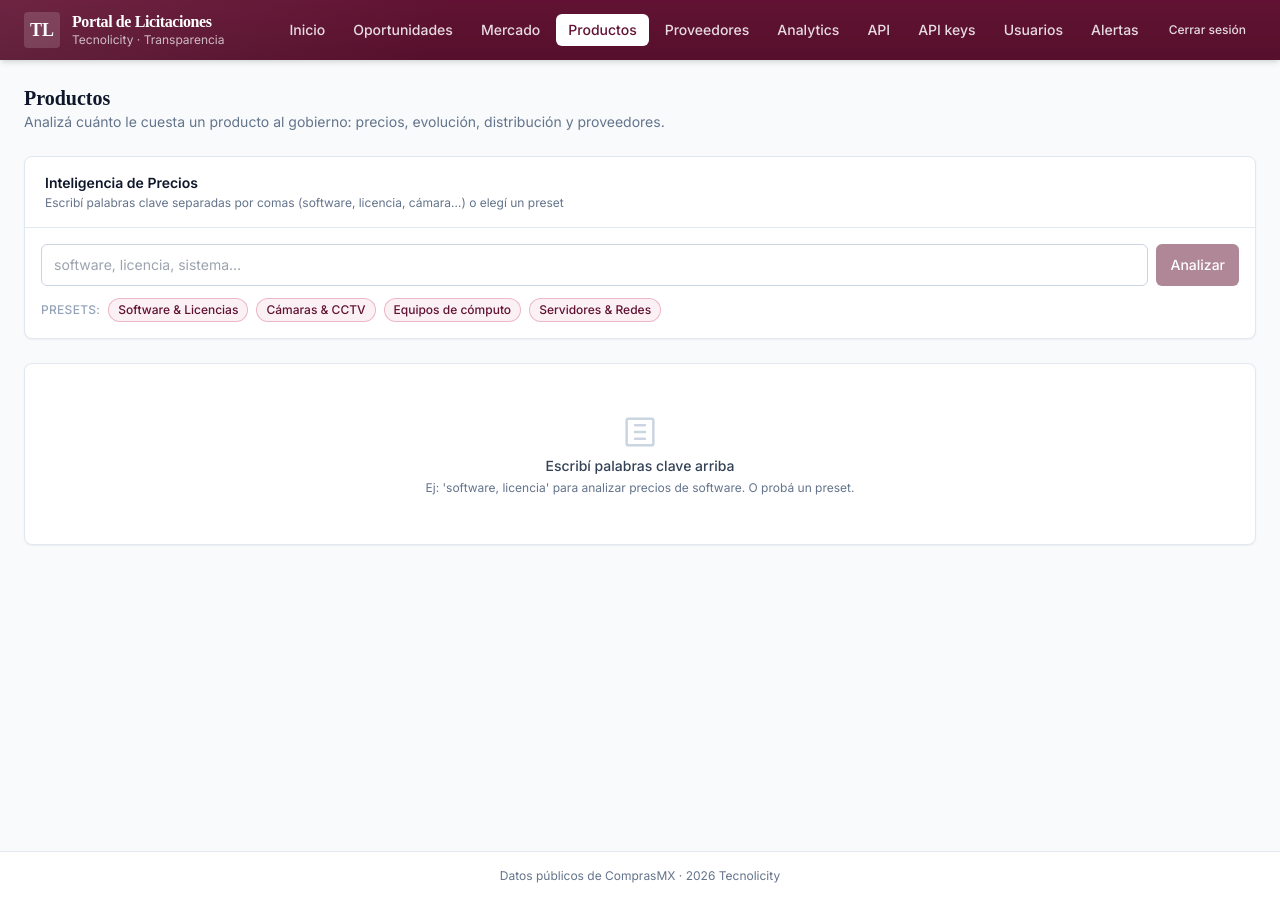
ProductsPage › renders the full dashboard after clicking Analizar
Type "software, licencia" into the field with placeholder "software, licencia, sistema…". click: (595, 265)
box: left=41, top=244, right=1148, bottom=286
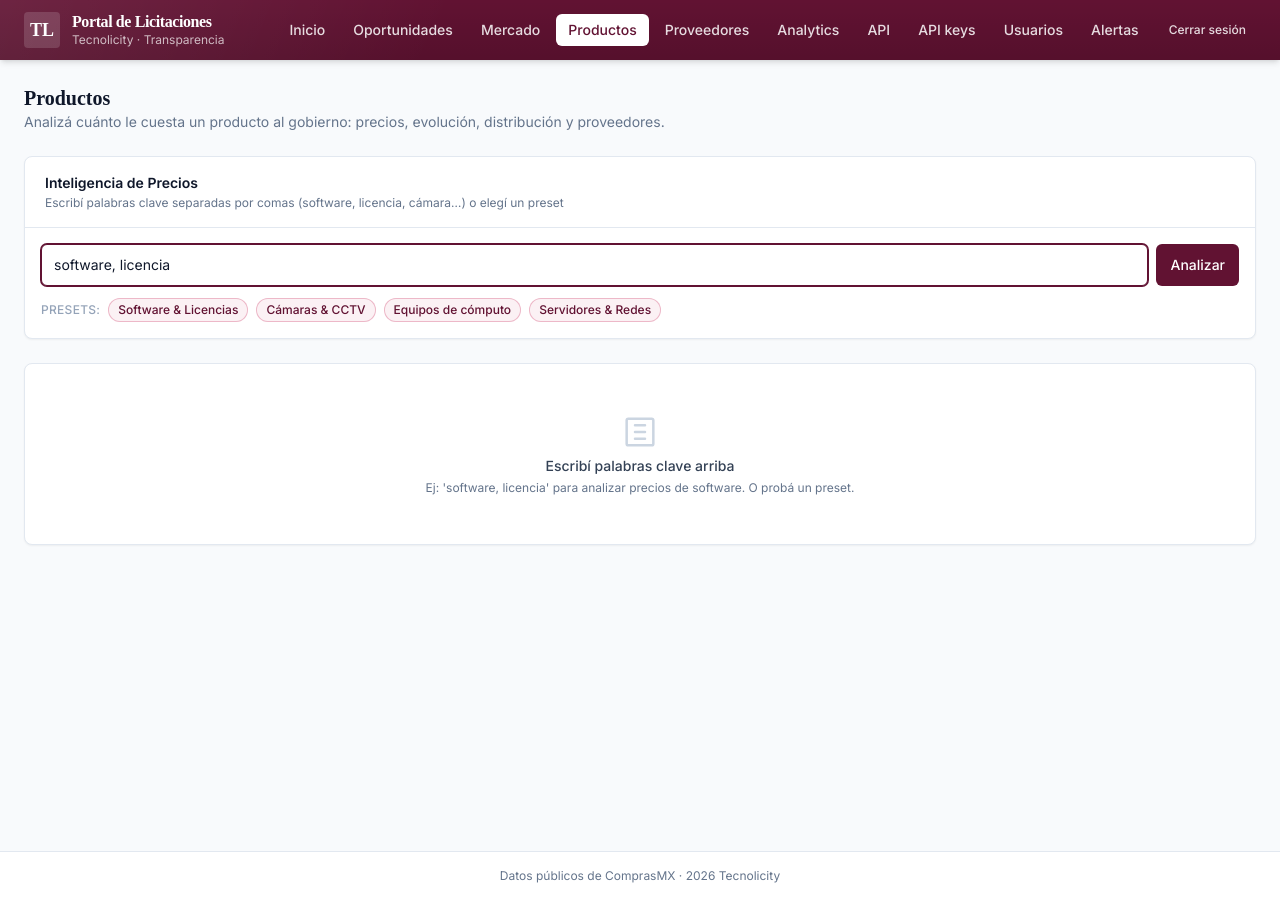
Click the button "Analizar". click: (1198, 265)
box: left=1156, top=244, right=1239, bottom=286
(page scrolled)
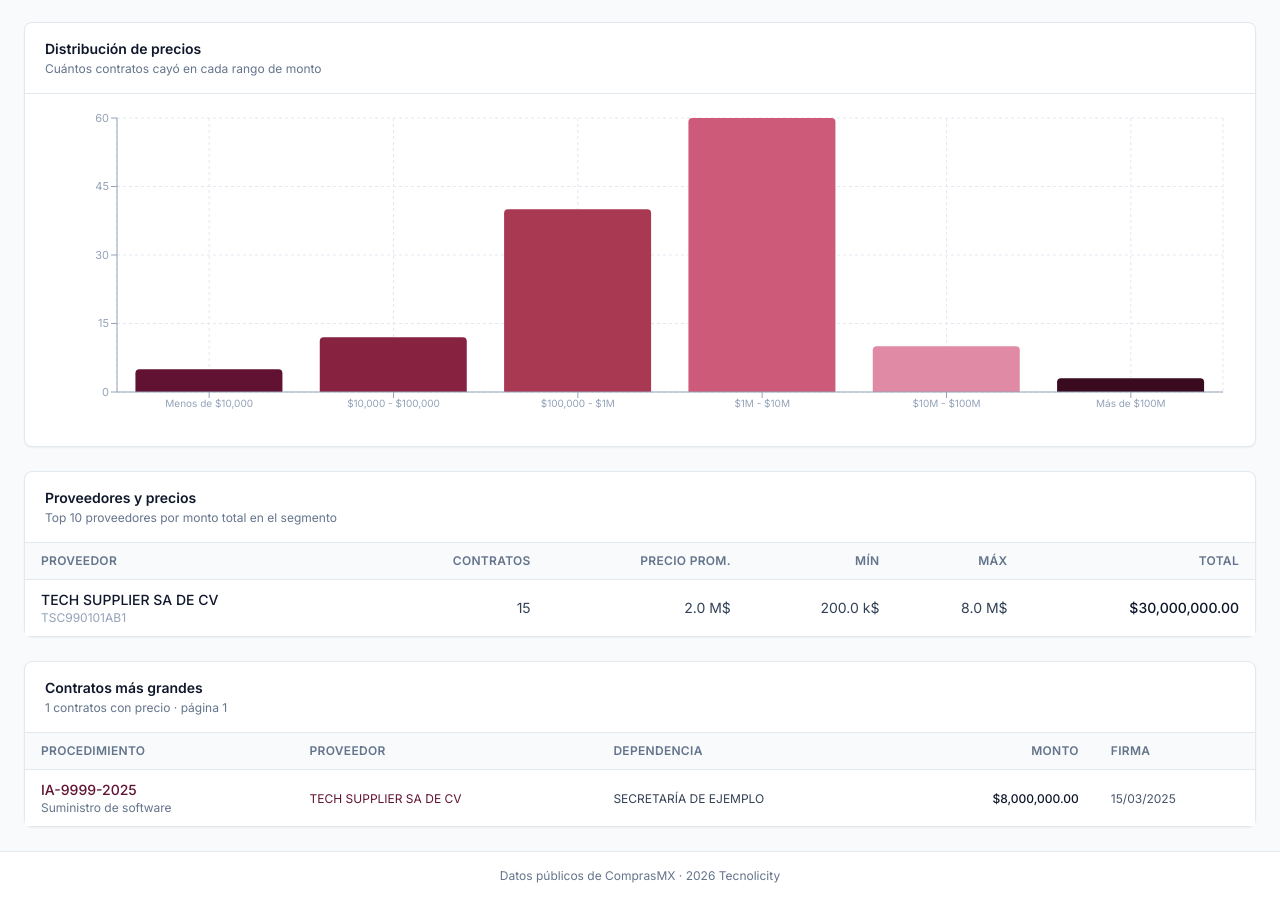
Now the heading "Distribución de precios" is shown, box left=45, top=40, right=201, bottom=56
Now the heading "Proveedores y precios" is shown, box left=45, top=488, right=196, bottom=506
Now the heading "Contratos más grandes" is shown, box left=45, top=678, right=227, bottom=698
